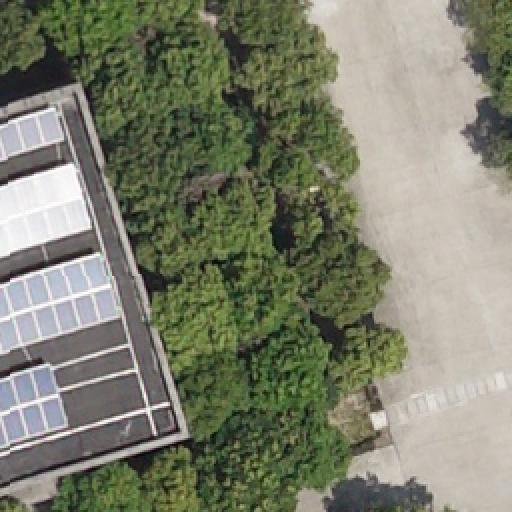solar-panel: (0, 253, 122, 355), (0, 162, 96, 258), (0, 361, 72, 447), (0, 109, 68, 163)
